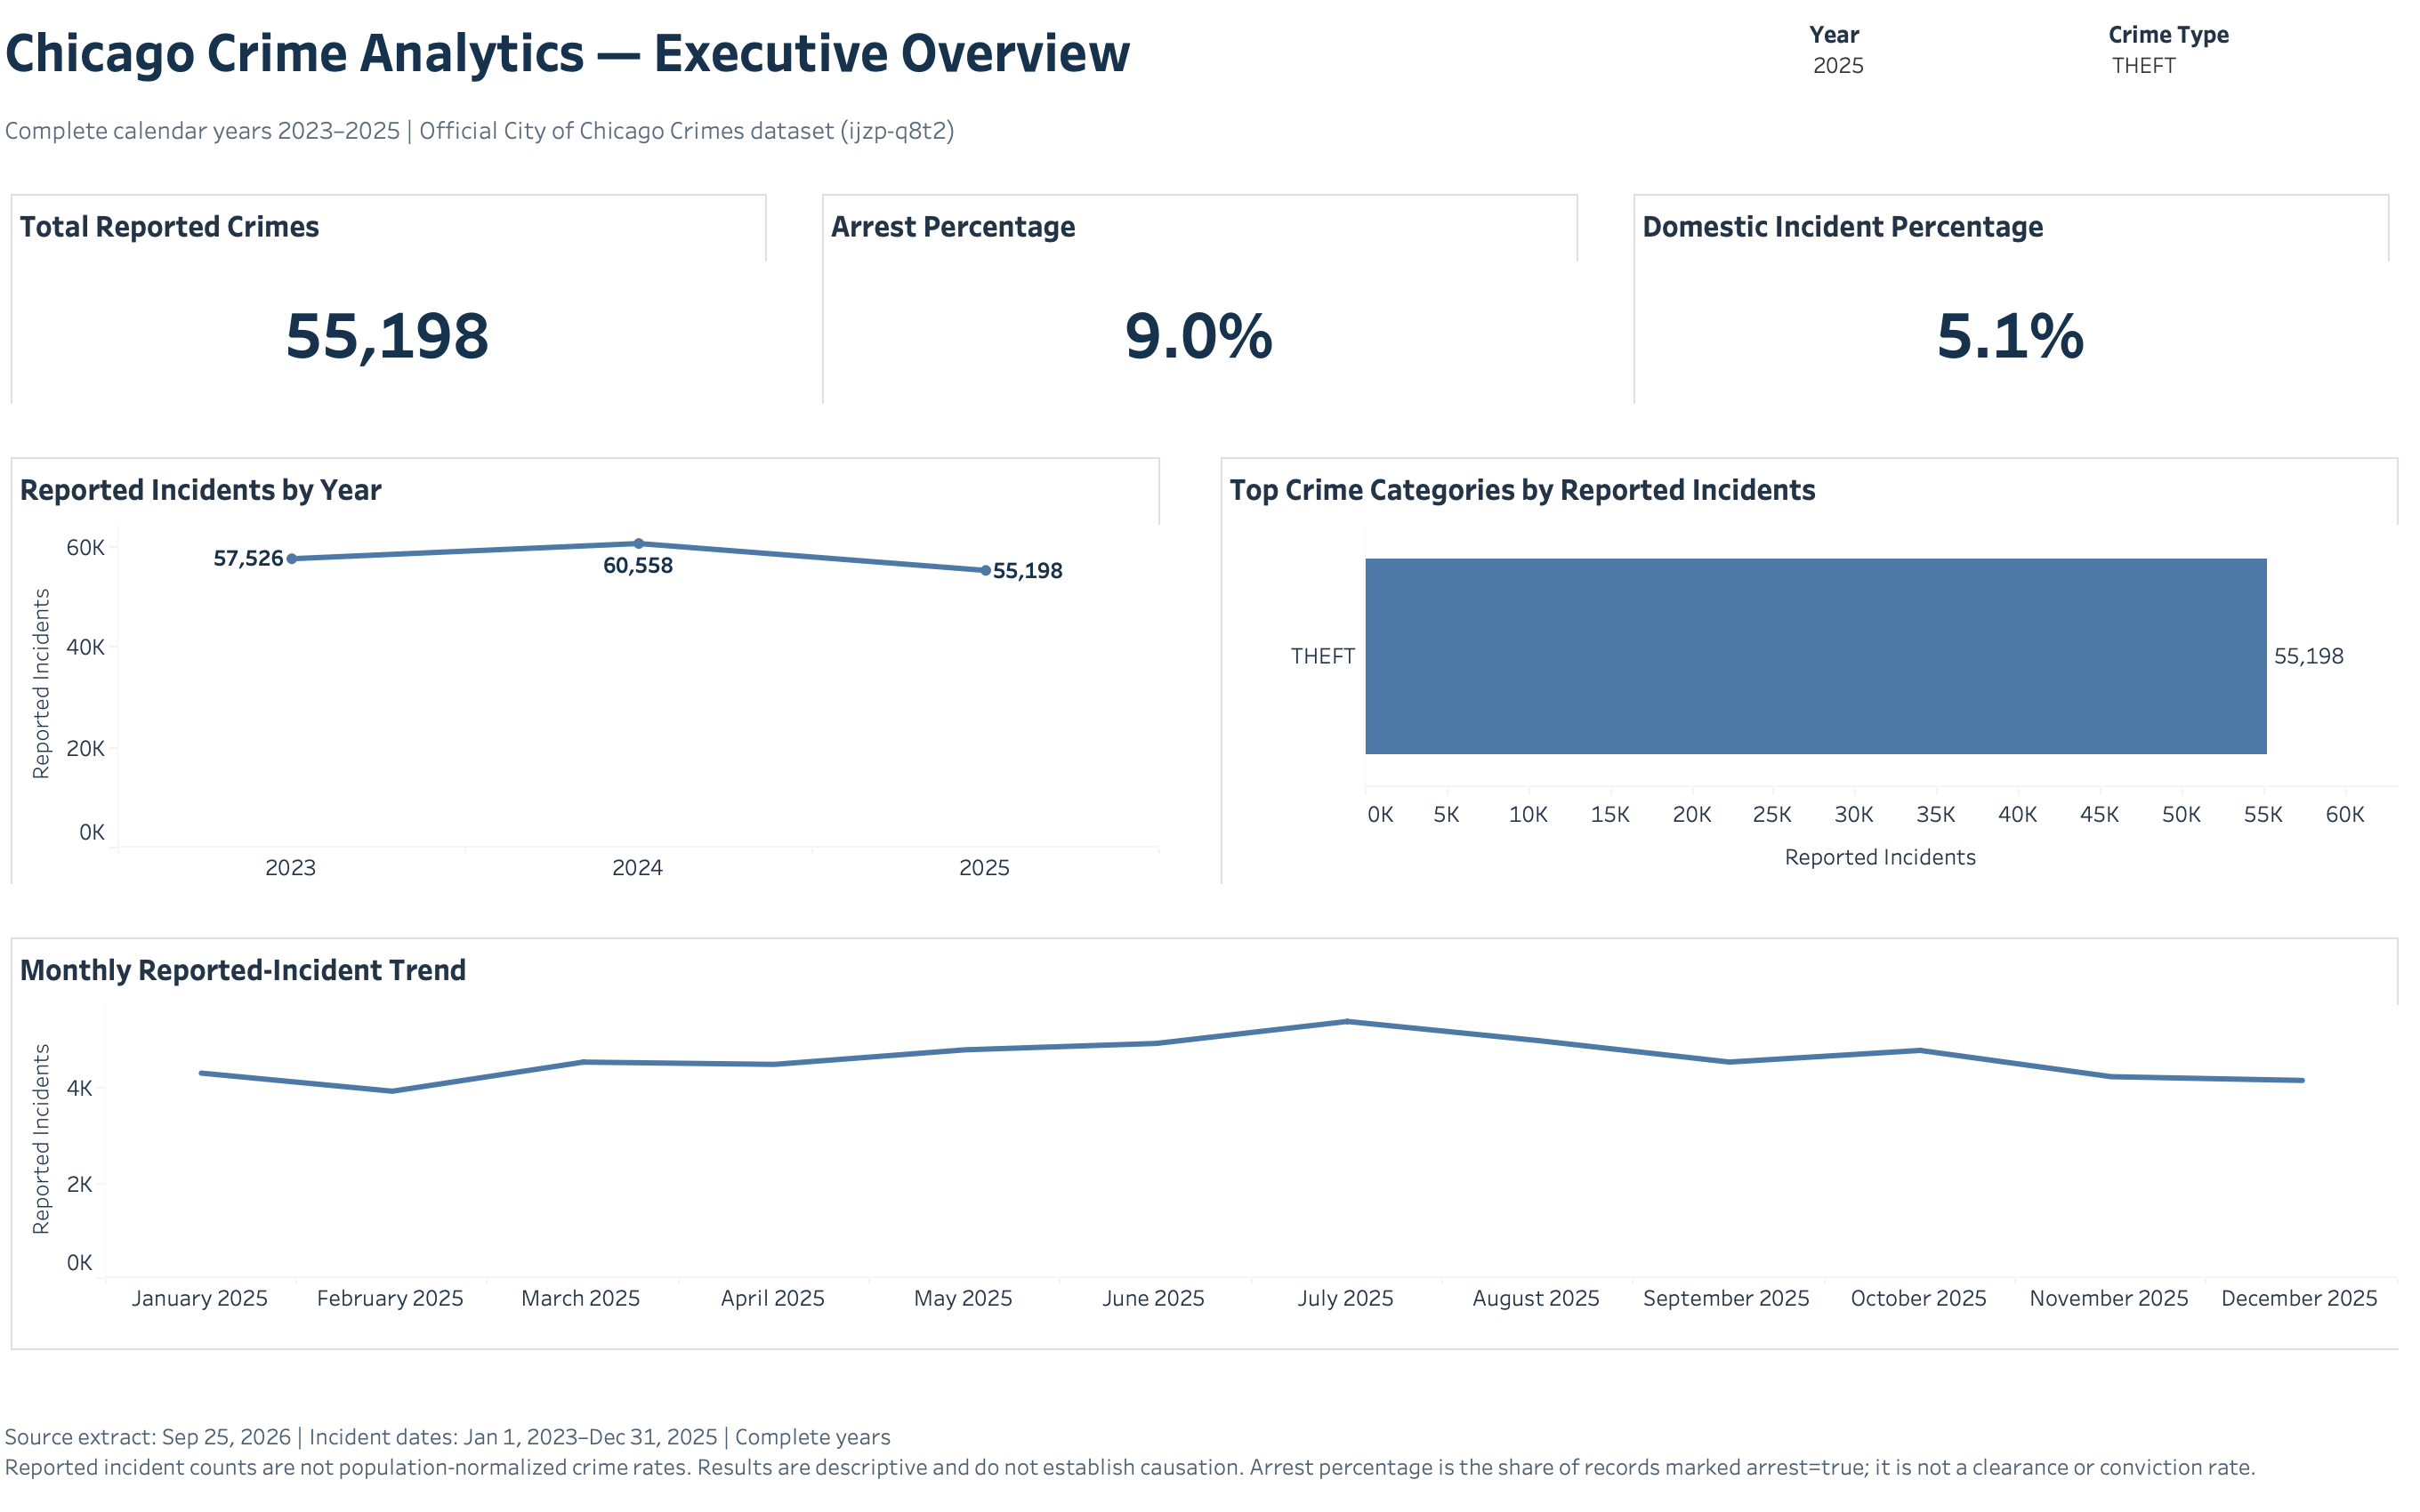

What the dashboard file says about the page in this screenshot:
{"tool":"tableau","page":{"name":"Executive Overview","canvas":[1360,850],"ordinal":0},"visuals":[{"type":"title","box":[24.5,10.2,965.6,61.2]},{"type":"parameter","param":"[Parameters].[pSelectedYear]","box":[1013.2,18.7,156.4,44.2]},{"type":"parameter","param":"[Parameters].[pCrimeType]","box":[1176.4,18.7,170,44.2]},{"type":"text","box":[24.5,66.3,965.6,30.6]},{"type":"worksheet","title":"Total Reported Crimes","mark":"Text","box":[24.5,110.5,424.3,127.5]},{"type":"worksheet","title":"Arrest Percentage","mark":"Text","box":[467.8,110.5,424.3,127.5]},{"type":"worksheet","title":"Domestic Incident Percentage","mark":"Text","box":[911.2,110.5,424.3,127.5]},{"type":"worksheet","title":"Yearly Crime Trend","mark":"Line","rows":["reported_incident_count"],"cols":["crime_year"],"box":[24.5,255,639.2,246.5]},{"type":"worksheet","title":"Crime Category Distribution","mark":"Bar","rows":["primary_type"],"cols":["reported_incident_count"],"box":[685.4,255,655.5,246.5]},{"type":"worksheet","title":"Monthly Crime Trend","mark":"Line","rows":["reported_incident_count"],"cols":["month_start"],"box":[24.5,518.5,1316.5,238]},{"type":"text","box":[24.5,773.5,1316.5,66.3]}]}

Visuals, with their boxes in screenshot pixels (x1, y1, x2, y2), scaled from the page's 1360x850 canvas onto the 2420x1512 screenshot:
title: rect(44, 18, 1762, 127)
parameter: rect(1803, 33, 2081, 112)
parameter: rect(2093, 33, 2396, 112)
text: rect(44, 118, 1762, 173)
"Total Reported Crimes" worksheet (Text marks): rect(44, 197, 799, 423)
"Arrest Percentage" worksheet (Text marks): rect(833, 197, 1587, 423)
"Domestic Incident Percentage" worksheet (Text marks): rect(1621, 197, 2376, 423)
"Yearly Crime Trend" worksheet (Line marks): rect(44, 454, 1181, 892)
"Crime Category Distribution" worksheet (Bar marks): rect(1220, 454, 2386, 892)
"Monthly Crime Trend" worksheet (Line marks): rect(44, 922, 2386, 1346)
text: rect(44, 1376, 2386, 1494)
